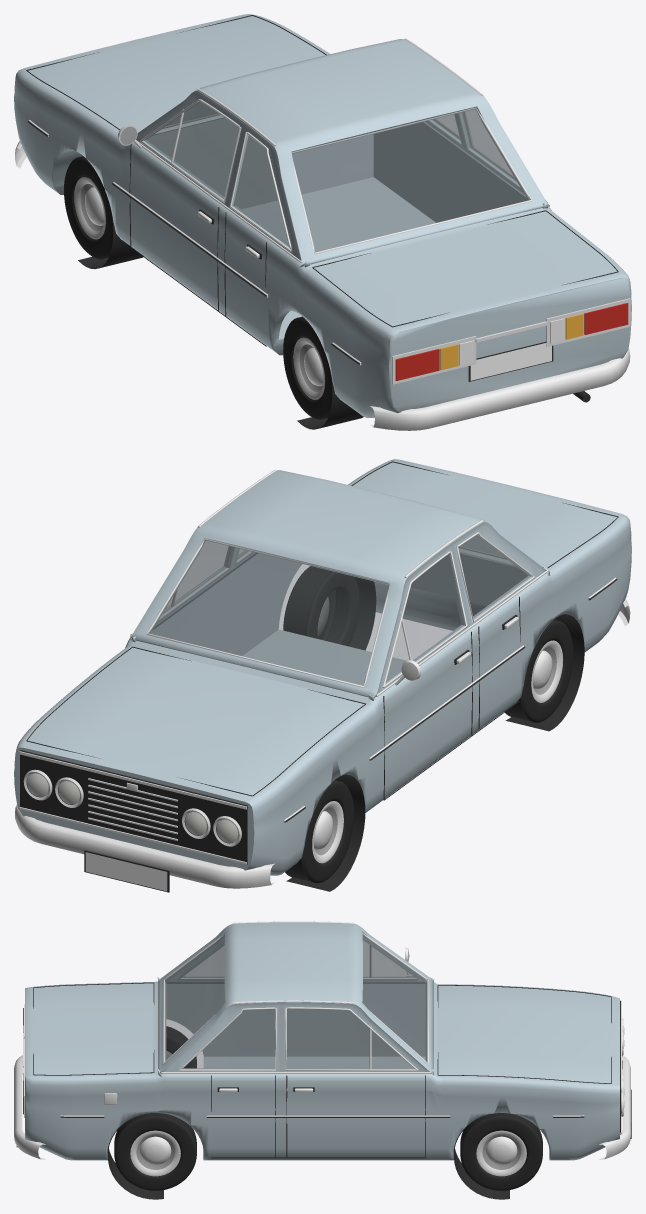
The model's file is zhiguli.glb.
3 renders of one model, top to bottom at view 1: azimuth 30°, elevation 25°; view 2: azimuth 150°, elevation 25°; view 3: azimuth 270°, elevation 25°, orthographic. The views are drawn at different scales.
Visible parts, largest first — view 1: body, glass, chrome, black, tyre, tail, plate, amber, reverse, rim; view 2: body, glass, chrome, black, tyre, plate, lamp, rim; view 3: body, glass, chrome, tyre, black, rim.
Part boxes in pixels (x1,y1,x2,y2): body: (14,14,631,417); glass: (120,101,529,252); chrome: (15,38,630,430); black: (26,15,618,429); tyre: (64,156,332,419); tail: (395,303,628,380); plate: (470,342,551,380); amber: (440,313,583,370); reverse: (459,318,564,365); rim: (80,178,323,396); body: (14,459,631,875); glass: (149,535,530,685); chrome: (15,469,630,888); black: (20,461,618,892); tyre: (283,566,573,883); plate: (85,852,167,891); lamp: (27,773,238,843); rim: (313,597,556,859); body: (25,922,619,1160); glass: (165,933,426,1068); chrome: (14,921,630,1176); tyre: (114,1026,542,1190); black: (16,982,631,1199); rim: (136,1051,520,1169).
Bounding box in the file's own units: 1.8 × 1.48 × 4.33.
